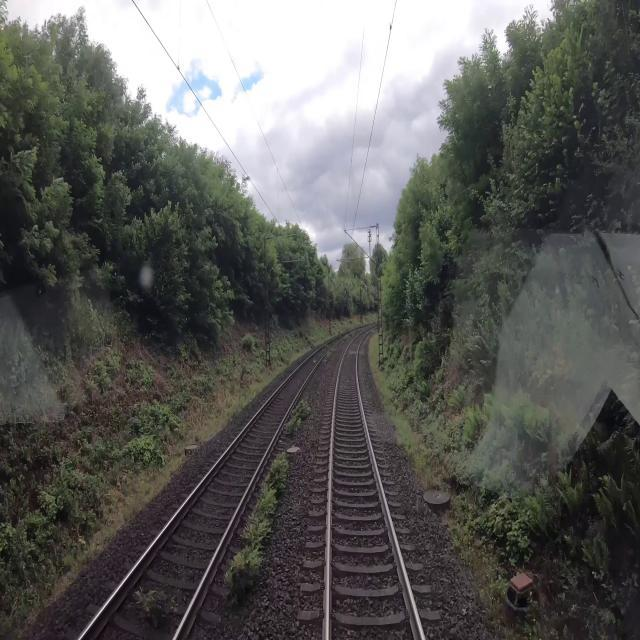Plant: (224, 452, 288, 609), (131, 584, 176, 629), (284, 398, 312, 437)
